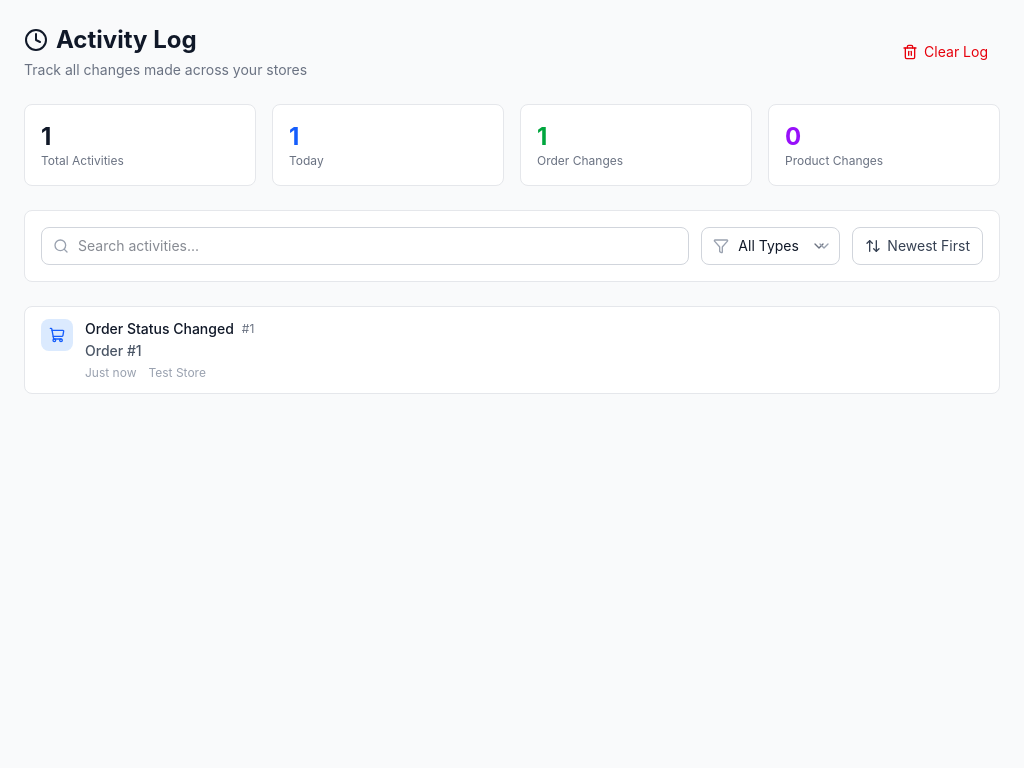
ActivityLogPage › clear log › closes modal when cancelled
Click the button "Clear Log": {"x": 945, "y": 52} [890,34,1000,70]
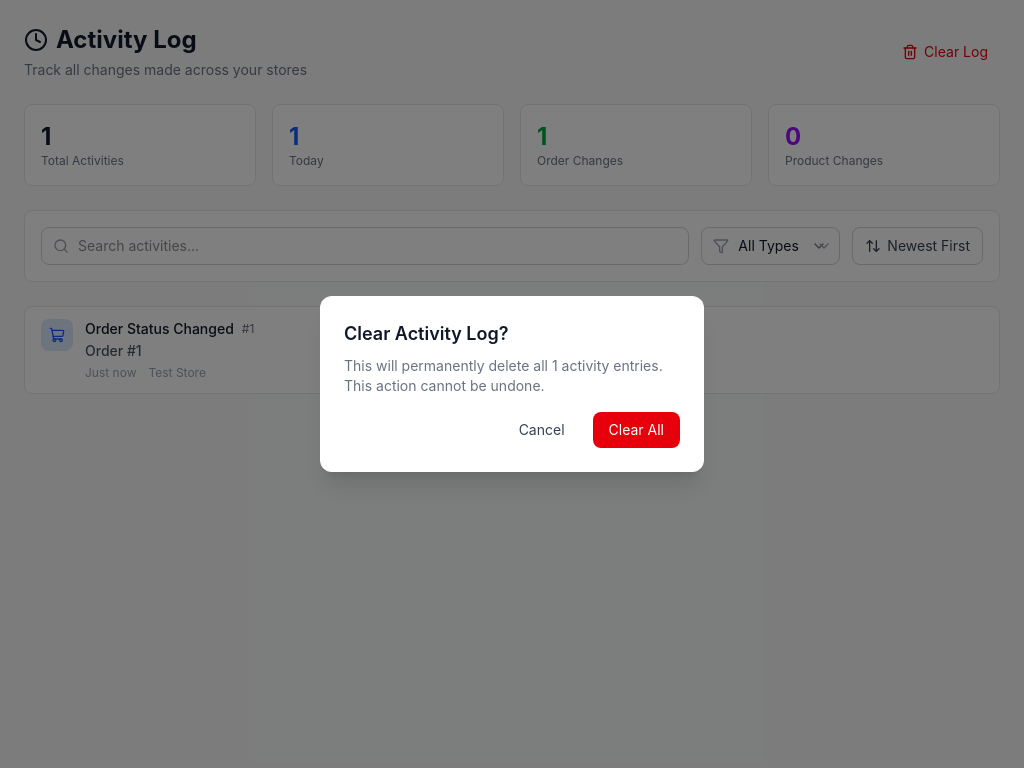
Click the button "Cancel": {"x": 542, "y": 430} [503,412,580,448]
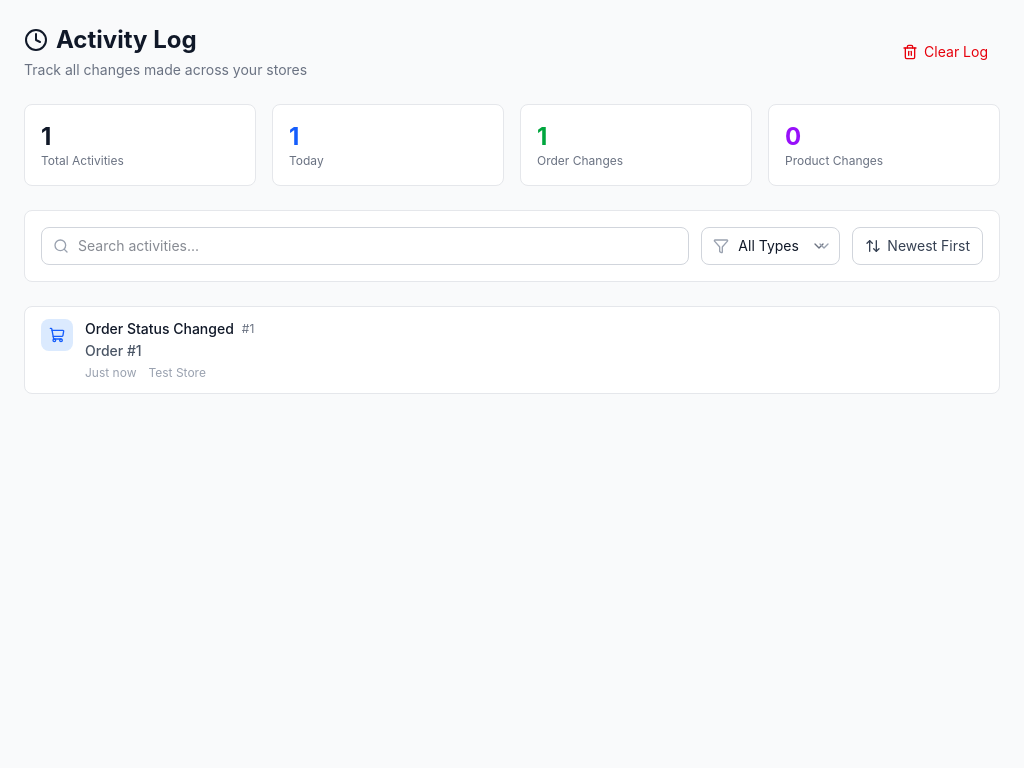
Expected: the heading "Clear Activity Log?" is gone
